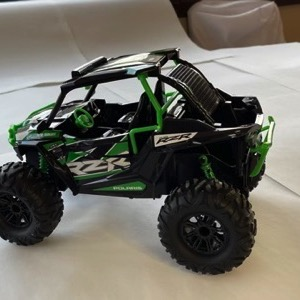polaris: (3, 45, 277, 278)
